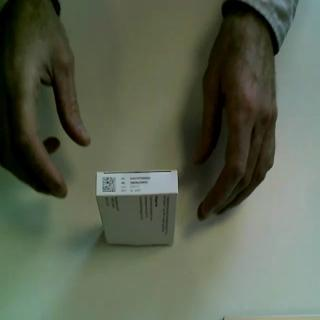dolcontin10mg: (95, 167, 180, 249)
